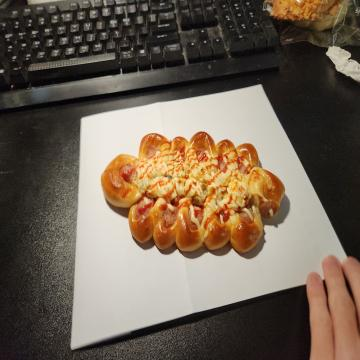pizza_bread: (98, 133, 286, 256)
